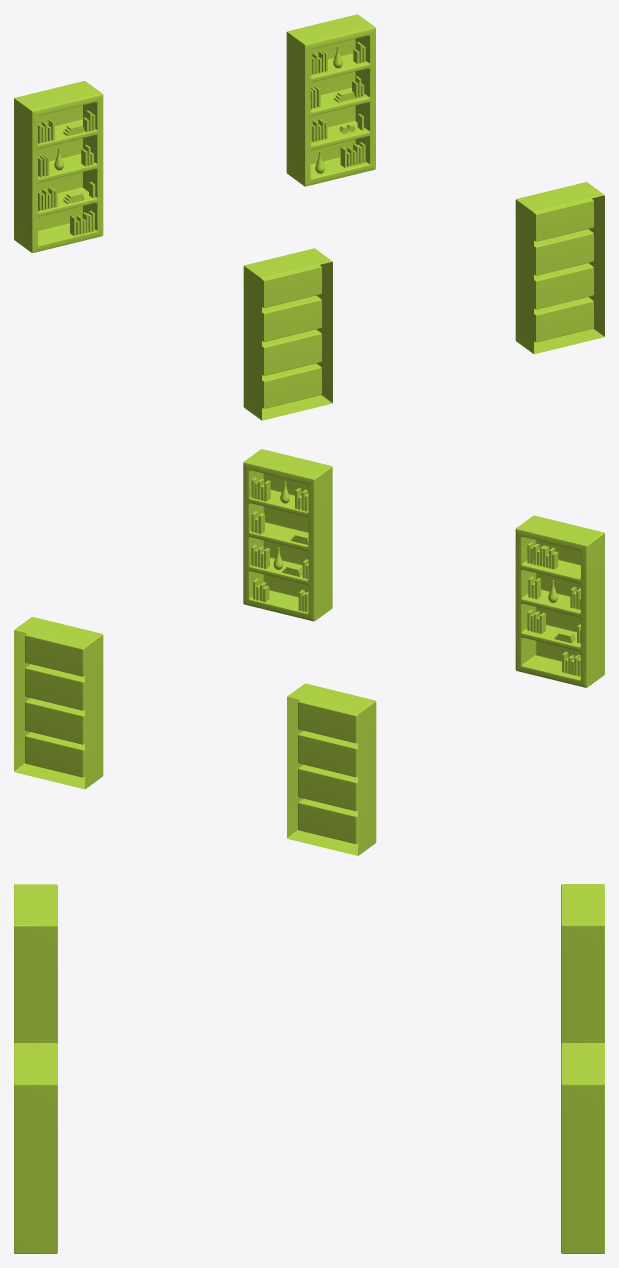
3 views of the same model, one above another, from view 1: azimuth 30°, elevation 25°; view 2: azimuth 150°, elevation 25°; view 3: azimuth 270°, elevation 25° (orthographic). The views are drawn at different scales.
Parts seen in each view (by area): view 1: Uv_002; view 2: Uv_002; view 3: Uv_002.
Boxes of the visible parts, x1=… form: Uv_002: x1=14, y1=14, x2=604, y2=420; Uv_002: x1=14, y1=449, x2=604, y2=855; Uv_002: x1=14, y1=884, x2=604, y2=1253.
Size of the model in its own units: 480 by 190 by 597.
